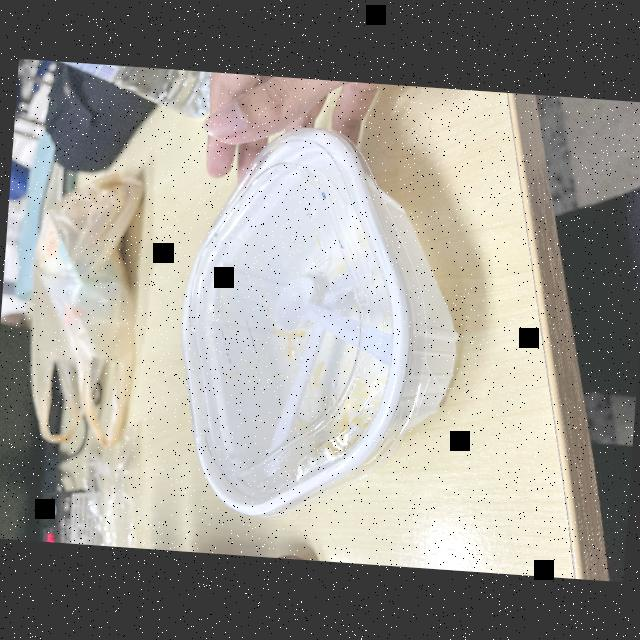plastic_box: (138, 112, 480, 542)
